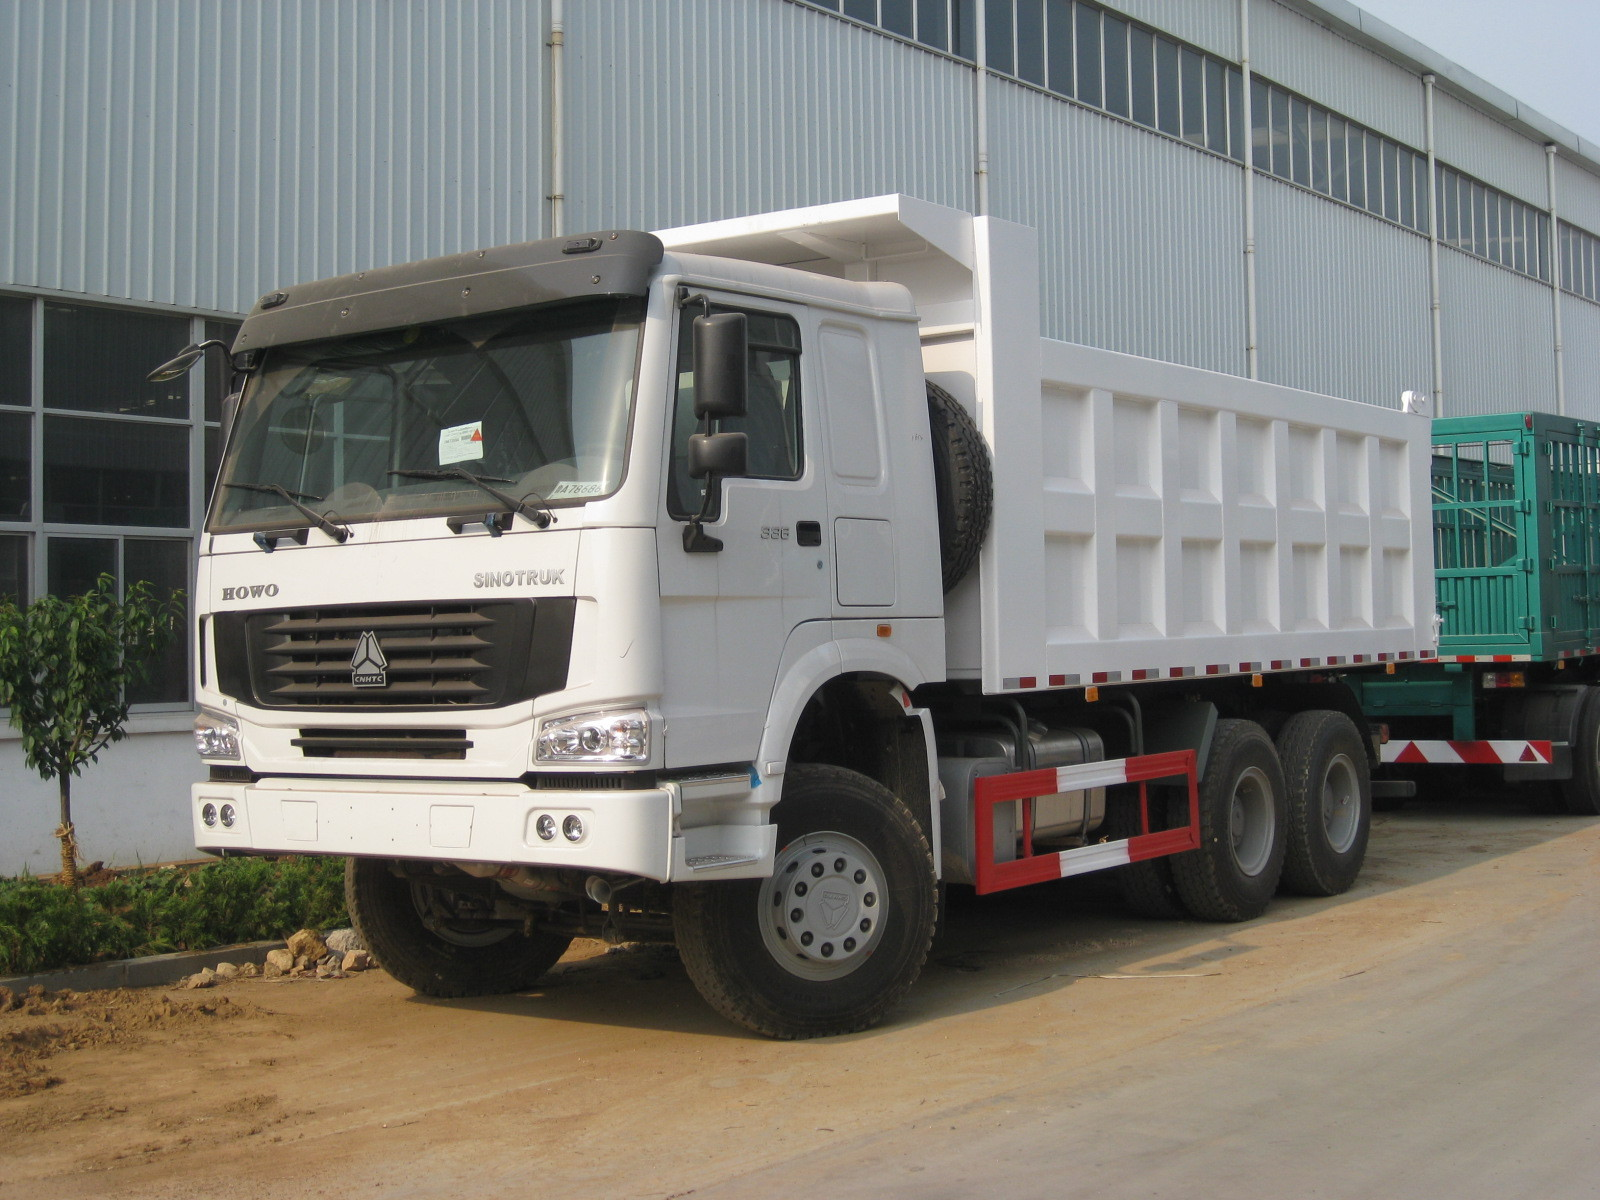truck: (173, 243, 1444, 997)
